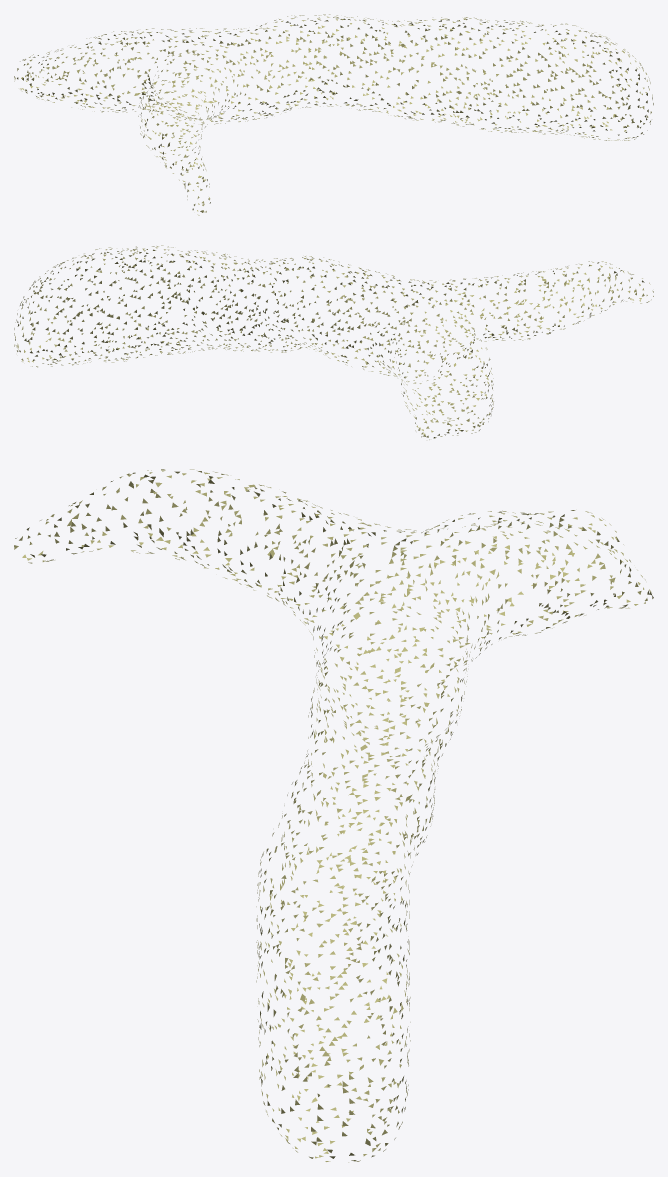
File: morph_009.glb
The picture shows the model from 3 angles, top to bottom: view 1: azimuth 30°, elevation 25°; view 2: azimuth 150°, elevation 25°; view 3: azimuth 270°, elevation 25°; orthographic projection. The views are drawn at different scales.
Size of the model in its own units: 119 by 37.96 by 74.46.
